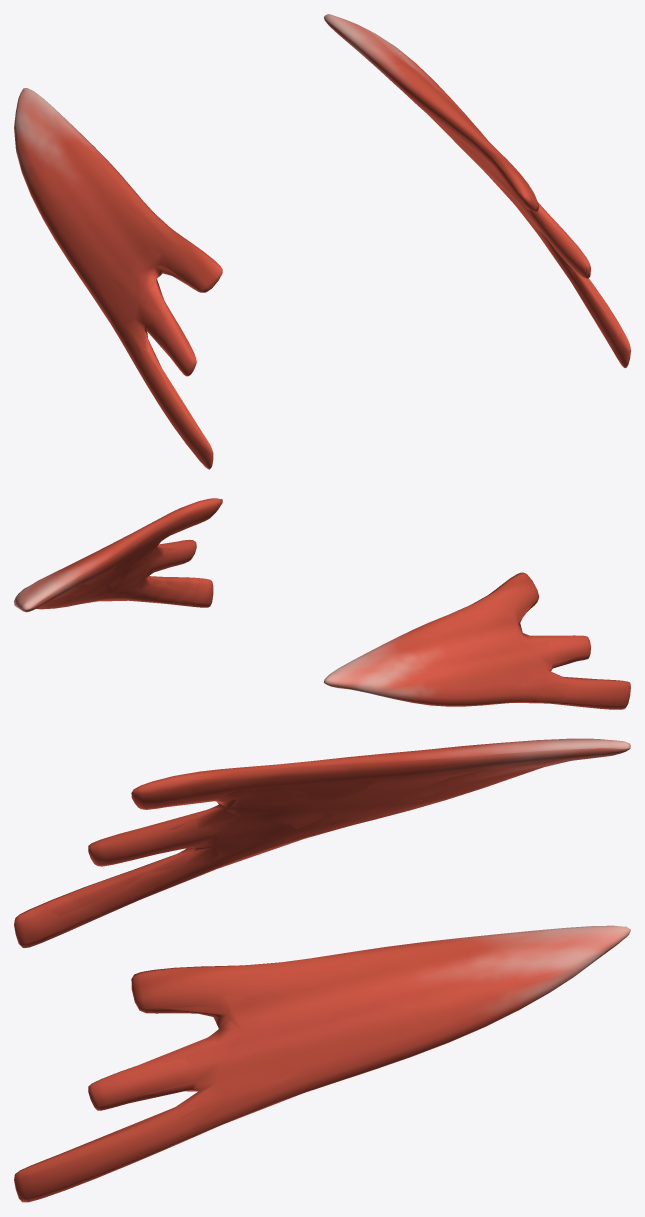
Rendered from Iliocostalis lumborum.fbx.
3 views of the same model, one above another, from view 1: azimuth 30°, elevation 25°; view 2: azimuth 150°, elevation 25°; view 3: azimuth 270°, elevation 25° (orthographic). The views are drawn at different scales.
Parts seen in each view (by area): view 1: Iliocostalis lumborum, Iliocostalis lumborum low; view 2: Iliocostalis lumborum, Iliocostalis lumborum low; view 3: Iliocostalis lumborum, Iliocostalis lumborum low.
Part boxes in pixels (<box>): Iliocostalis lumborum: <box>14,14,630,469</box>; Iliocostalis lumborum low: <box>36,49,619,429</box>; Iliocostalis lumborum: <box>14,498,630,709</box>; Iliocostalis lumborum low: <box>37,506,596,703</box>; Iliocostalis lumborum: <box>14,738,630,1202</box>; Iliocostalis lumborum low: <box>37,756,573,1151</box>.
Bounding box in the file's own units: 17.82 × 7.52 × 17.44.
